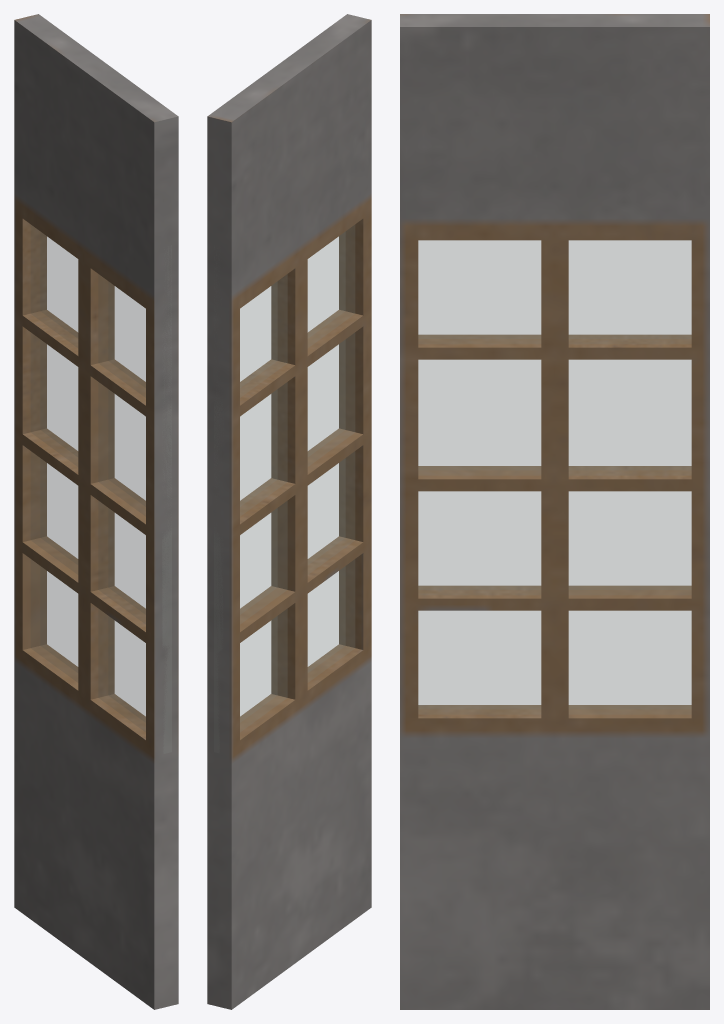
File: window_wall.glb
3 views of the same model, side by side, from view 1: azimuth 30°, elevation 25°; view 2: azimuth 150°, elevation 25°; view 3: azimuth 270°, elevation 25° (orthographic). The views are drawn at different scales.
Parts seen in each view (by area): view 1: pCube2, pCube6; view 2: pCube2, pCube6; view 3: pCube2, pCube6.
Boxes of the visible parts, x1,y1,x2,y2 form: pCube2: [14, 14, 178, 1009]; pCube6: [31, 225, 171, 753]; pCube2: [207, 14, 371, 1009]; pCube6: [214, 225, 354, 752]; pCube2: [400, 14, 709, 1009]; pCube6: [418, 240, 691, 713].
Bounding box in the file's own units: 0.1 × 3.5 × 1.
2 materials, 1 textured.
